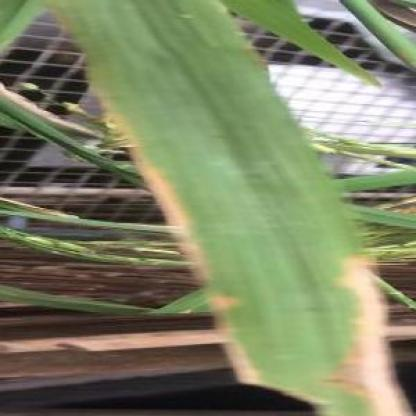Blight: (43, 1, 411, 416)
